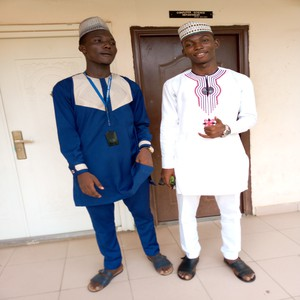Fulokoja_male_student: (54, 19, 155, 277), (162, 26, 254, 281)
